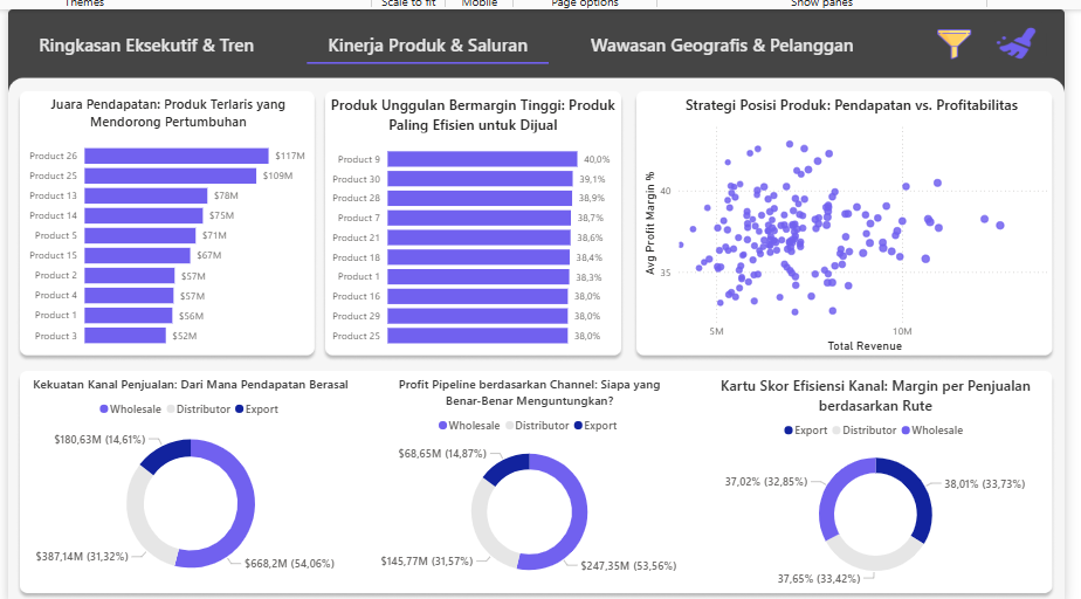

The page's visual inventory and layout, read from the dashboard file:
{"tool":"powerbi","page":{"name":"Kinerja Produk & Kanal","canvas":[1280,720],"ordinal":1},"visuals":[{"type":"barChart","title":"Juara Pendapatan: Produk Terlaris yang Mendorong Pertumbuhan","fields":{"Category":["Sales_data.product_name"],"Y":["Measures_.Total Revenue"]},"box":[16,103,357,316],"z":0},{"type":"scatterChart","title":"Strategi Posisi Produk: Pendapatan vs. Profitabilitas","fields":{"X":["Customer Summary.Total Revenue"],"Y":["Customer Summary.Avg Profit Margin %"],"Size":["Sum(Customer Summary.Order Count)"]},"box":[764,103,516,317],"z":1000},{"type":"barChart","title":"Produk Unggulan Bermargin Tinggi: Produk Paling Efisien untuk Dijual","fields":{"Category":["Sales_data.product_name"],"Y":["Measures_.Profit Margin %"]},"box":[382,103,361,316],"z":2000},{"type":"donutChart","title":"Kekuatan Kanal Penjualan: Dari Mana Pendapatan Berasal","fields":{"Category":["Sales_data.channel"],"Y":["Measures_.Total Revenue"]},"box":[16.7,443.3,408.3,261.7],"z":3000},{"type":"donutChart","title":"Profit Pipeline berdasarkan Channel: Siapa yang Benar-Benar Menguntungkan?","fields":{"Category":["Sales_data.channel"],"Y":["Measures_.Total Profit"]},"box":[436.7,443.3,390,261.7],"z":4000},{"type":"donutChart","title":"Kartu Skor Efisiensi Kanal: Margin per Penjualan berdasarkan Rute","fields":{"Category":["Sales_data.channel"],"Y":["Measures_.Profit Margin %"]},"box":[843.3,443.3,415,261.7],"z":5000},{"type":"actionButton","box":[337.2,14.1,342.3,55.1],"z":6000},{"type":"actionButton","box":[9,14.1,317.9,55.1],"z":7000},{"type":"actionButton","box":[695,13.8,341.2,55],"z":8000},{"type":"actionButton","box":[1188,14,70,55],"z":9000},{"type":"actionButton","box":[1120,21,53,42],"z":10000}]}

Visuals, with their boxes on the page's 1280x720 design canvas (x1, y1, x2, y2). These are canvas units, not pixel positions in the 1081x599 screenshot, which may show the page scaled, cropped or inside an application window:
"Juara Pendapatan: Produk Terlaris yang Mendorong Pertumbuhan" barChart: region(16, 103, 373, 419)
"Strategi Posisi Produk: Pendapatan vs. Profitabilitas" scatterChart: region(764, 103, 1280, 420)
"Produk Unggulan Bermargin Tinggi: Produk Paling Efisien untuk Dijual" barChart: region(382, 103, 743, 419)
"Kekuatan Kanal Penjualan: Dari Mana Pendapatan Berasal" donutChart: region(17, 443, 425, 705)
"Profit Pipeline berdasarkan Channel: Siapa yang Benar-Benar Menguntungkan?" donutChart: region(437, 443, 827, 705)
"Kartu Skor Efisiensi Kanal: Margin per Penjualan berdasarkan Rute" donutChart: region(843, 443, 1258, 705)
actionButton: region(337, 14, 680, 69)
actionButton: region(9, 14, 327, 69)
actionButton: region(695, 14, 1036, 69)
actionButton: region(1188, 14, 1258, 69)
actionButton: region(1120, 21, 1173, 63)
